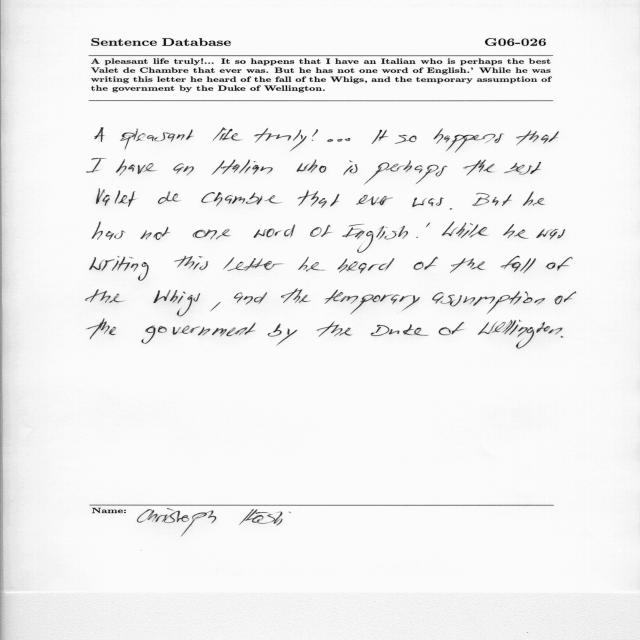word: (432, 291, 545, 314), (141, 322, 256, 344), (478, 320, 562, 349), (325, 290, 420, 315), (364, 161, 447, 185), (342, 224, 408, 253), (434, 128, 504, 153), (120, 129, 193, 150), (90, 256, 149, 281), (153, 290, 200, 316), (254, 128, 307, 151), (201, 192, 282, 207), (212, 159, 273, 175), (338, 258, 395, 273), (224, 257, 284, 271), (442, 221, 487, 238), (96, 188, 136, 207), (298, 190, 339, 208), (370, 324, 429, 336), (116, 159, 157, 176), (516, 130, 559, 146), (92, 221, 126, 240), (268, 324, 297, 346), (501, 256, 536, 274), (254, 224, 296, 238), (87, 319, 116, 339), (86, 289, 124, 303), (450, 258, 485, 273), (317, 322, 352, 337), (174, 256, 209, 270), (504, 162, 541, 175), (465, 160, 495, 176), (234, 292, 267, 305), (297, 159, 327, 173), (213, 127, 242, 141), (281, 289, 310, 303), (140, 227, 170, 240), (503, 224, 529, 239), (298, 257, 324, 272), (193, 229, 231, 239), (546, 257, 573, 271), (356, 195, 393, 205), (523, 191, 545, 206), (413, 257, 438, 270), (439, 322, 464, 335), (536, 229, 565, 240), (413, 197, 444, 207), (158, 191, 180, 204), (555, 292, 577, 305), (87, 158, 106, 173), (173, 163, 194, 176), (310, 225, 332, 237), (492, 194, 512, 206), (372, 130, 389, 144), (416, 222, 430, 238), (472, 193, 489, 206), (344, 161, 358, 176), (395, 135, 417, 144), (95, 127, 105, 142), (327, 138, 351, 142), (211, 302, 221, 311), (312, 129, 318, 141), (561, 336, 563, 338), (450, 209, 452, 210)
